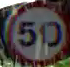Speed limit: (6, 0, 69, 65)
